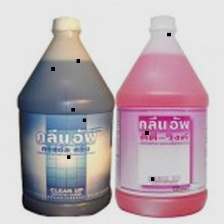insecticide: (15, 13, 118, 220), (111, 12, 212, 219)
